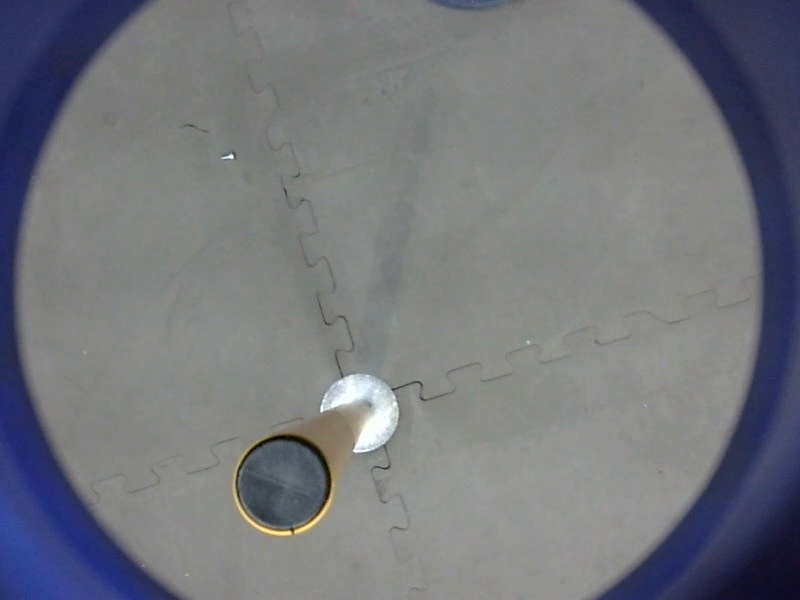tip: (227, 427, 341, 541)
